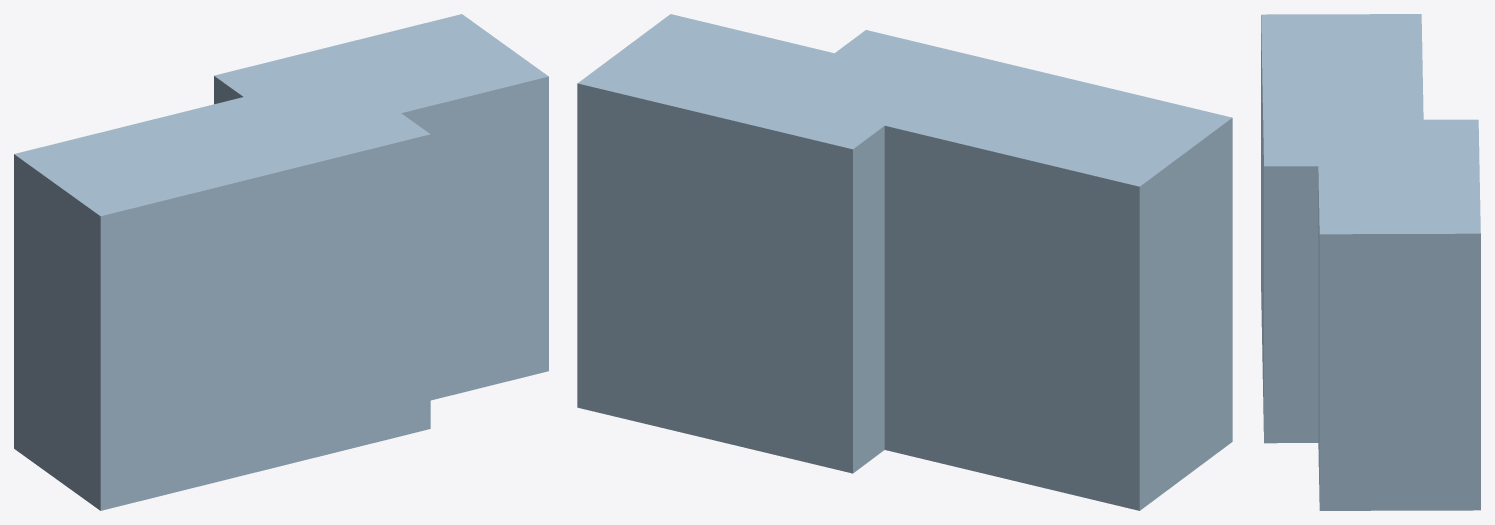
Rendered from osm_way_223859809.glb.
3 views of the same model, side by side, from view 1: azimuth 30°, elevation 25°; view 2: azimuth 150°, elevation 25°; view 3: azimuth 270°, elevation 25° (orthographic). The views are drawn at different scales.
Visible parts, largest first — view 1: osm_way_223859809; view 2: osm_way_223859809; view 3: osm_way_223859809.
Boxes of the visible parts, x1=… form: osm_way_223859809: x1=14, y1=14, x2=548, y2=510; osm_way_223859809: x1=577, y1=14, x2=1232, y2=510; osm_way_223859809: x1=1261, y1=14, x2=1480, y2=510.
Size of the model in its own units: 32.77 by 19.2 by 13.82.
